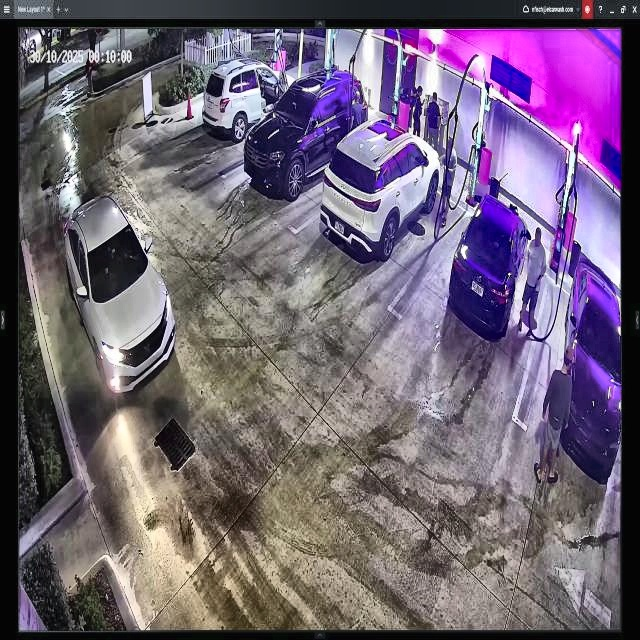Car: (64, 195, 176, 393), (322, 119, 438, 264), (242, 70, 368, 188), (449, 196, 529, 334)
